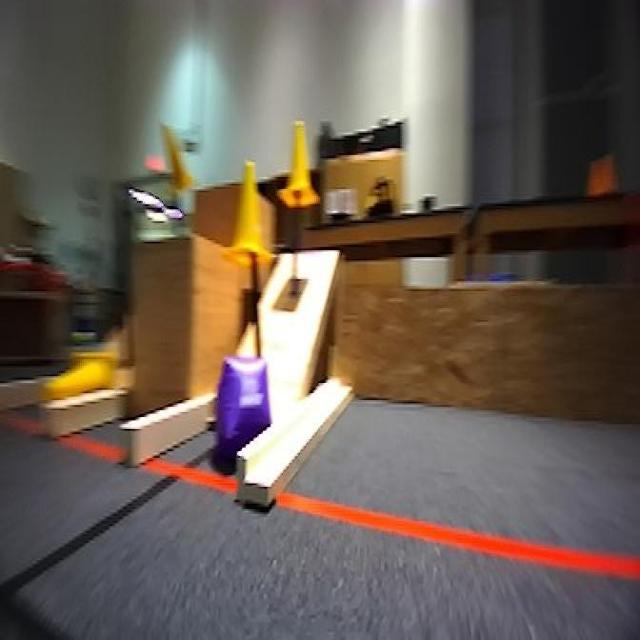frc_cone: (229, 162, 274, 267), (44, 347, 112, 409), (280, 123, 318, 211), (160, 121, 196, 201)
frc_cube: (216, 357, 274, 458)
